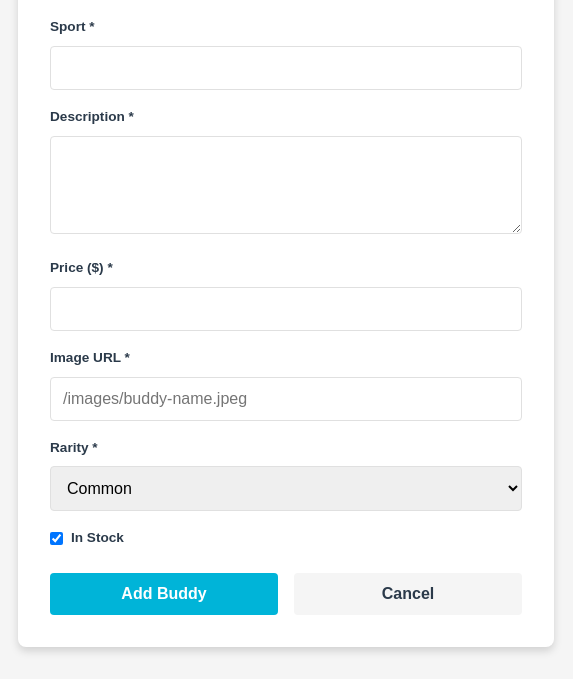
Scenario: ProductForm › Validation › should show validation errors when submitting empty form
(page scrolled)
Note: Submit empty form
Click the button "Add Buddy".
click(164, 594)  # box x1=50 y1=573 x2=278 y2=615
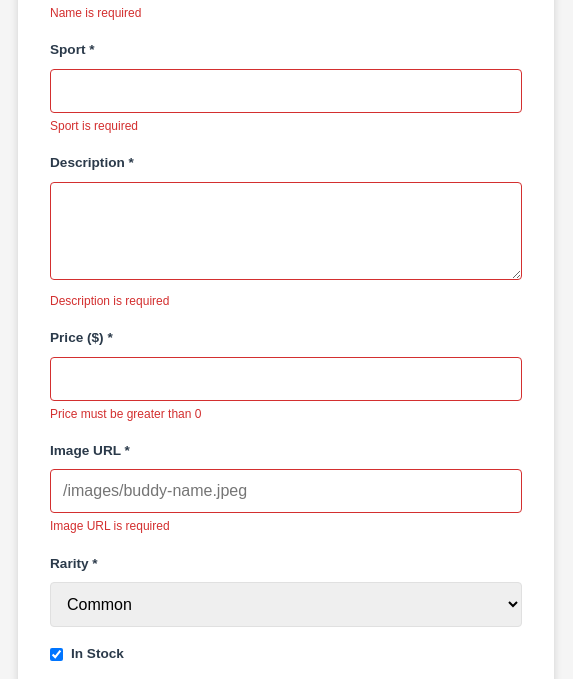
expect the text "Name is required" is shown: met, box x1=50 y1=6 x2=141 y2=20
expect the text "Sport is required" is shown: met, box x1=50 y1=119 x2=138 y2=133
expect the text "Description is required" is shown: met, box x1=50 y1=294 x2=169 y2=308
